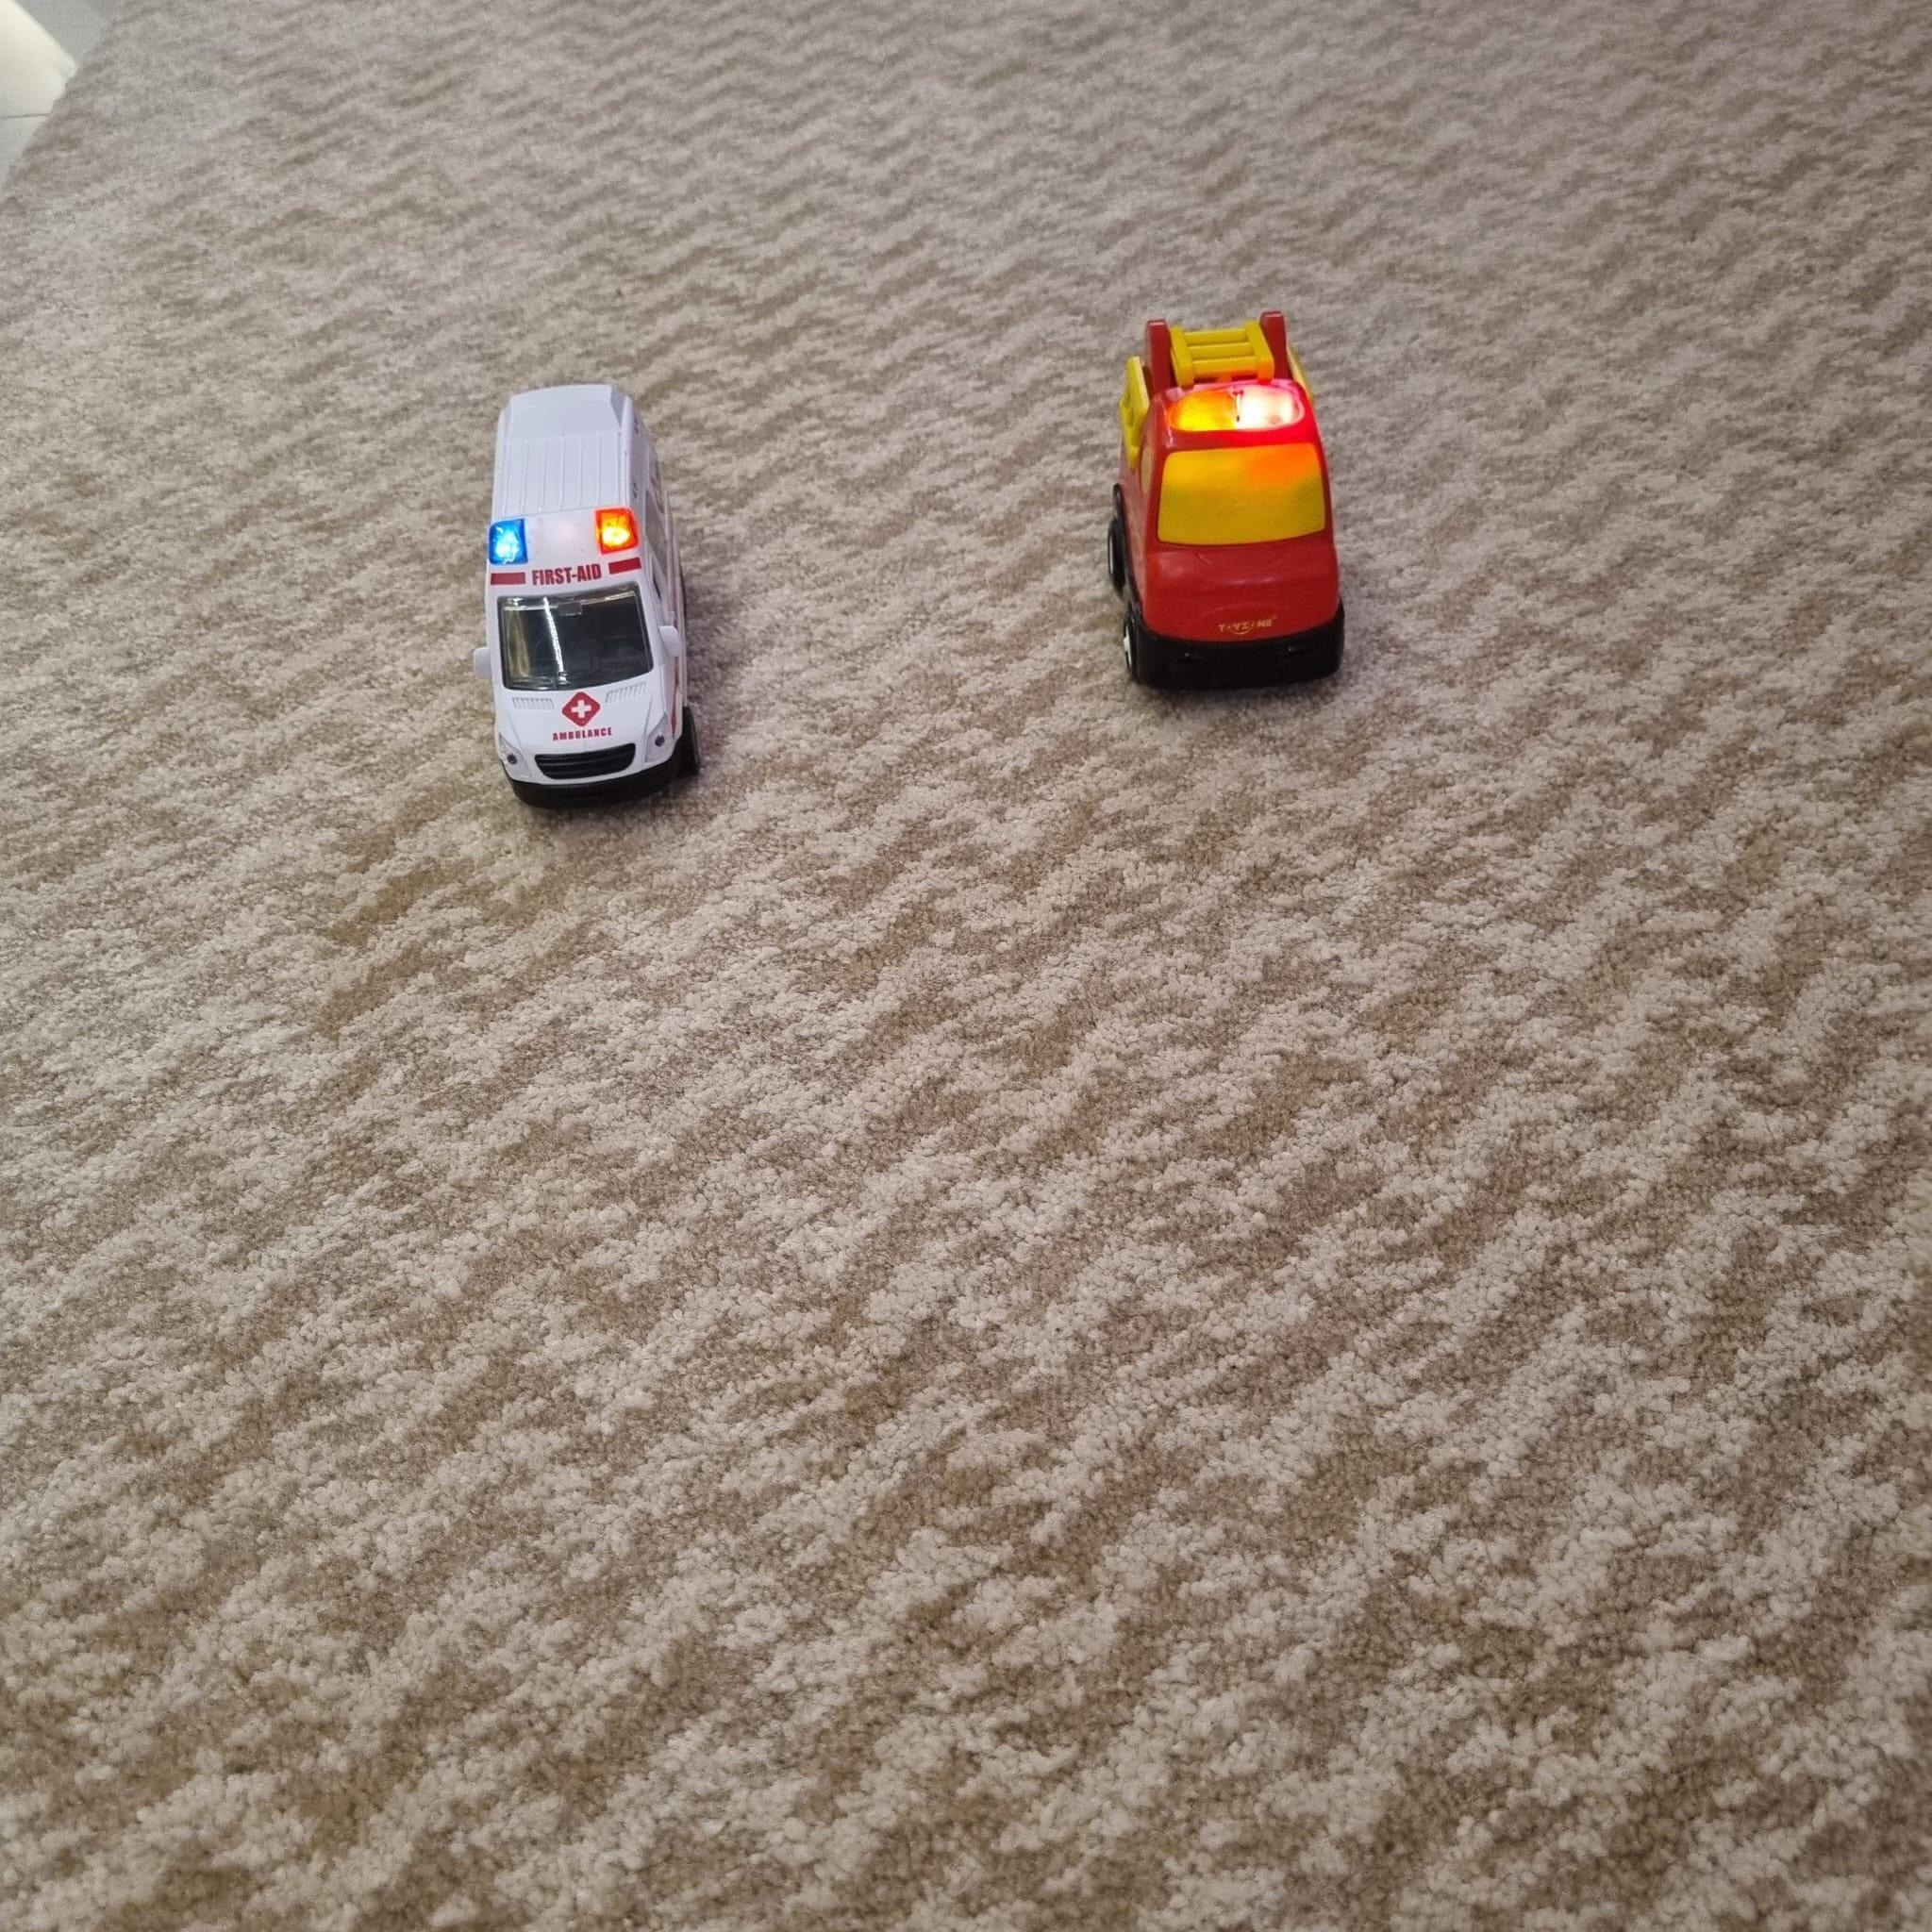ambulance_on: (474, 382, 709, 810)
firetruck_on: (1109, 294, 1350, 697)
